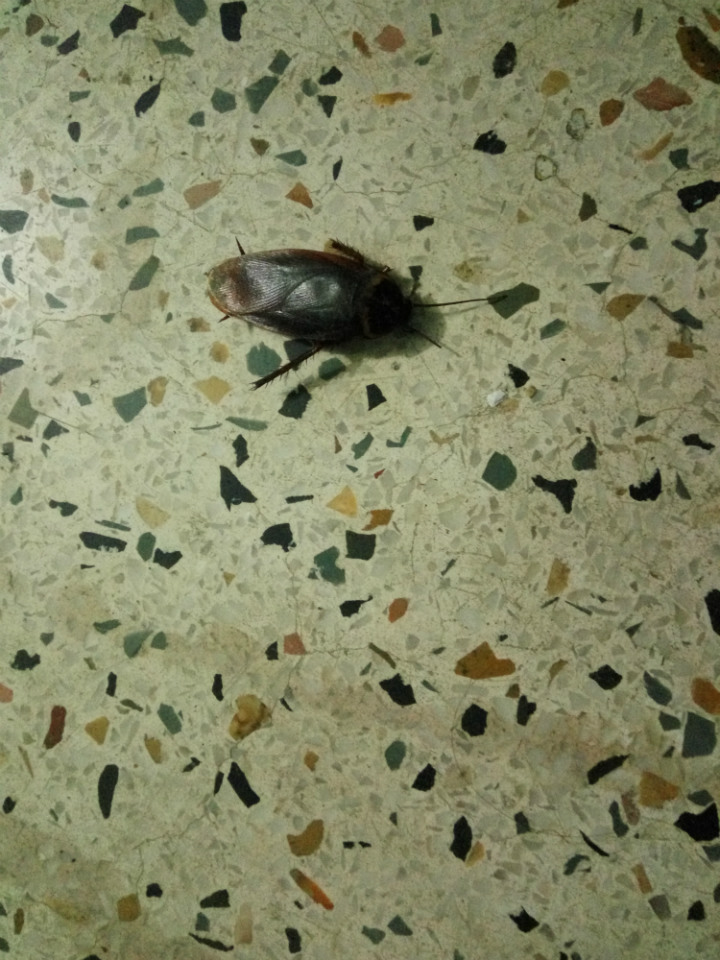cockroach: (98, 165, 569, 450)
